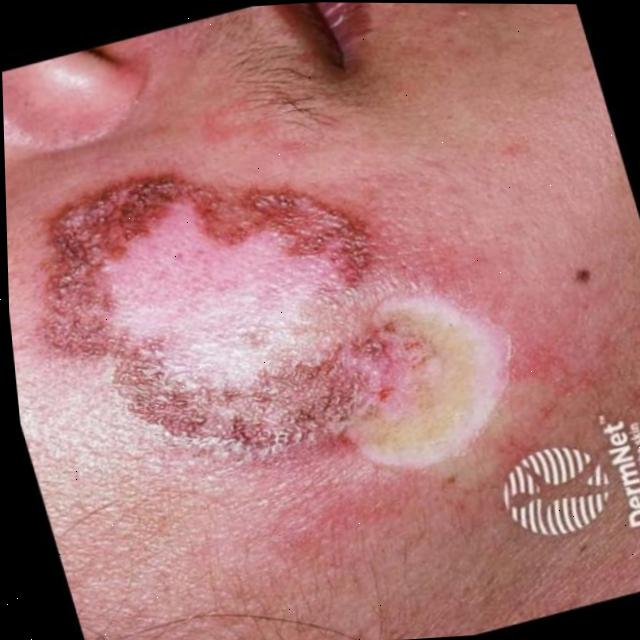Eczema: (57, 137, 468, 494)
